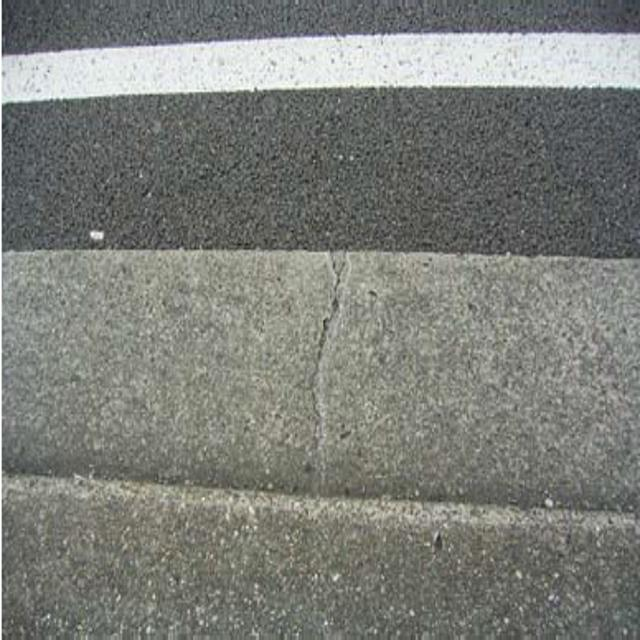crack: (292, 224, 354, 473)
